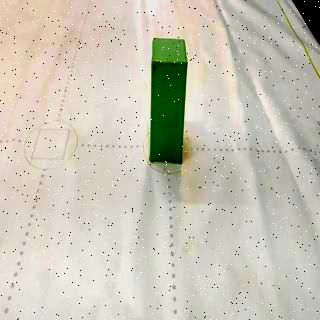greenbox: (148, 36, 188, 164)
